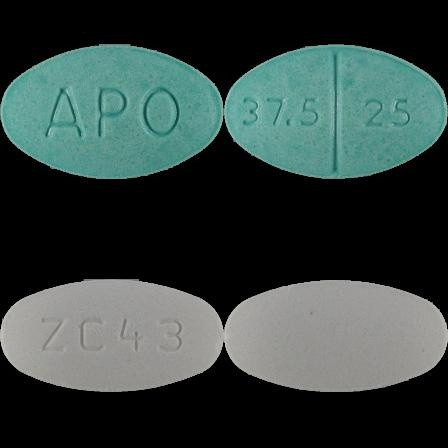33261-952: (0, 0, 224, 224)
